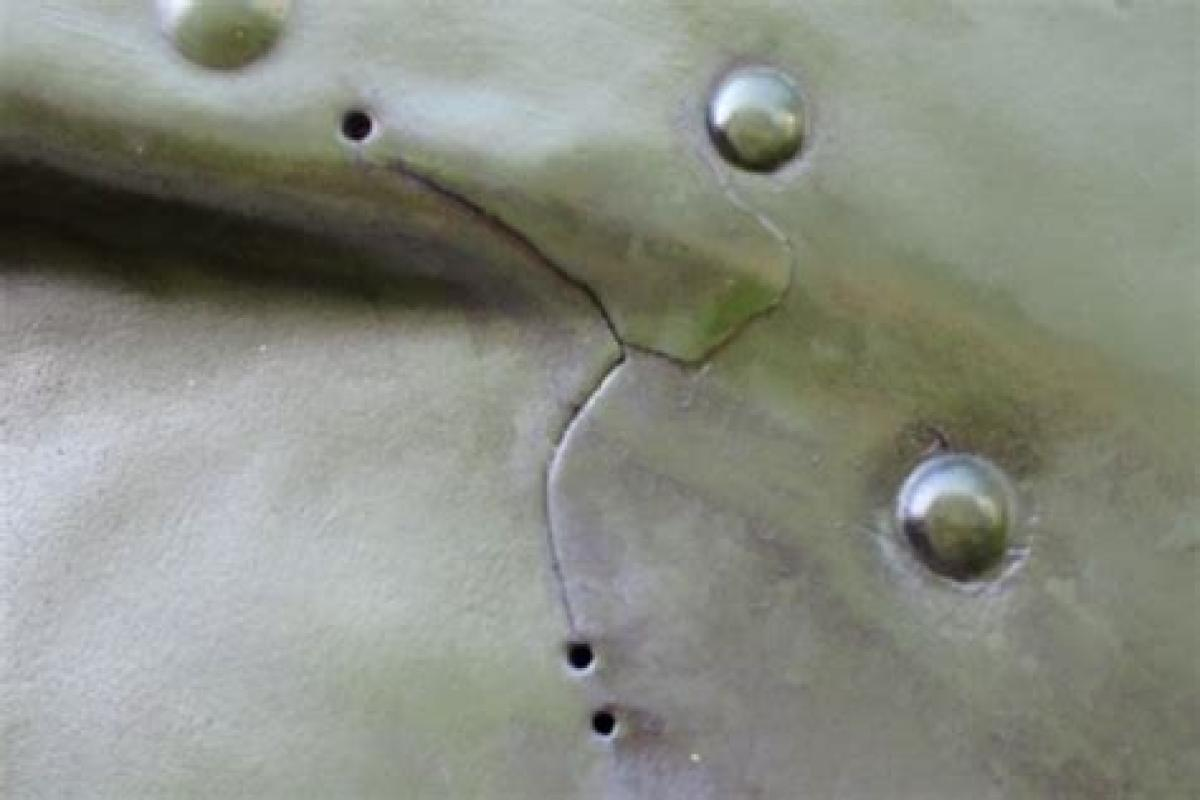Fuselage_damage: (370, 136, 820, 633)
